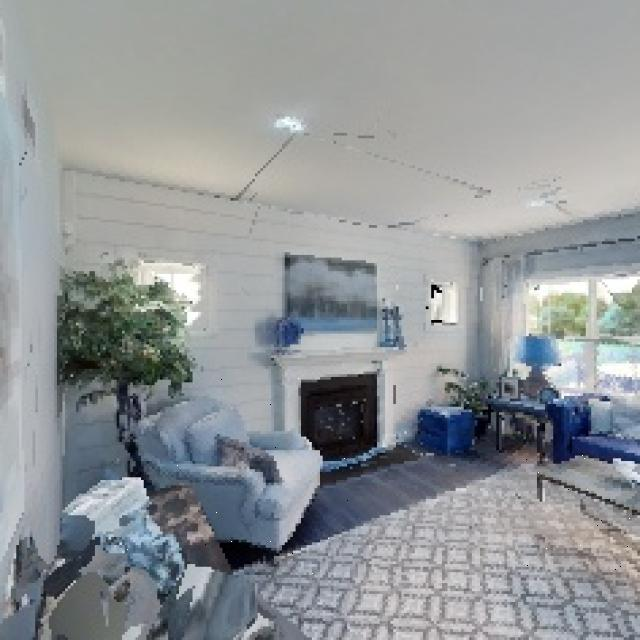sofa: (119, 374, 348, 582)
table: (523, 439, 640, 575)
